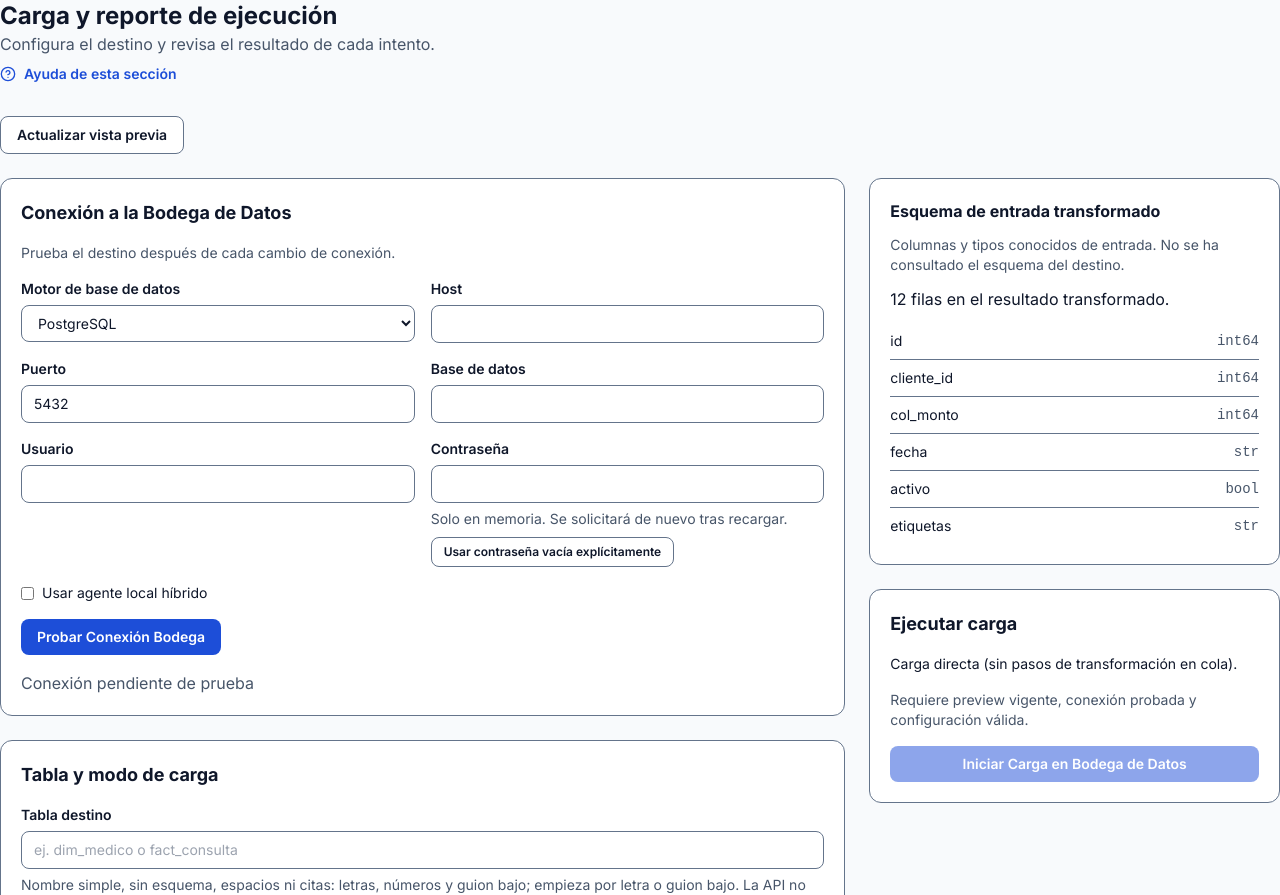
Load through the local agent › advertises local opt-in even on an incomplete form and blocks a disconnected agent
Click the checkbox labelled "Usar agente local híbrido" at (28, 593), box [21,586,34,600]
(page scrolled)
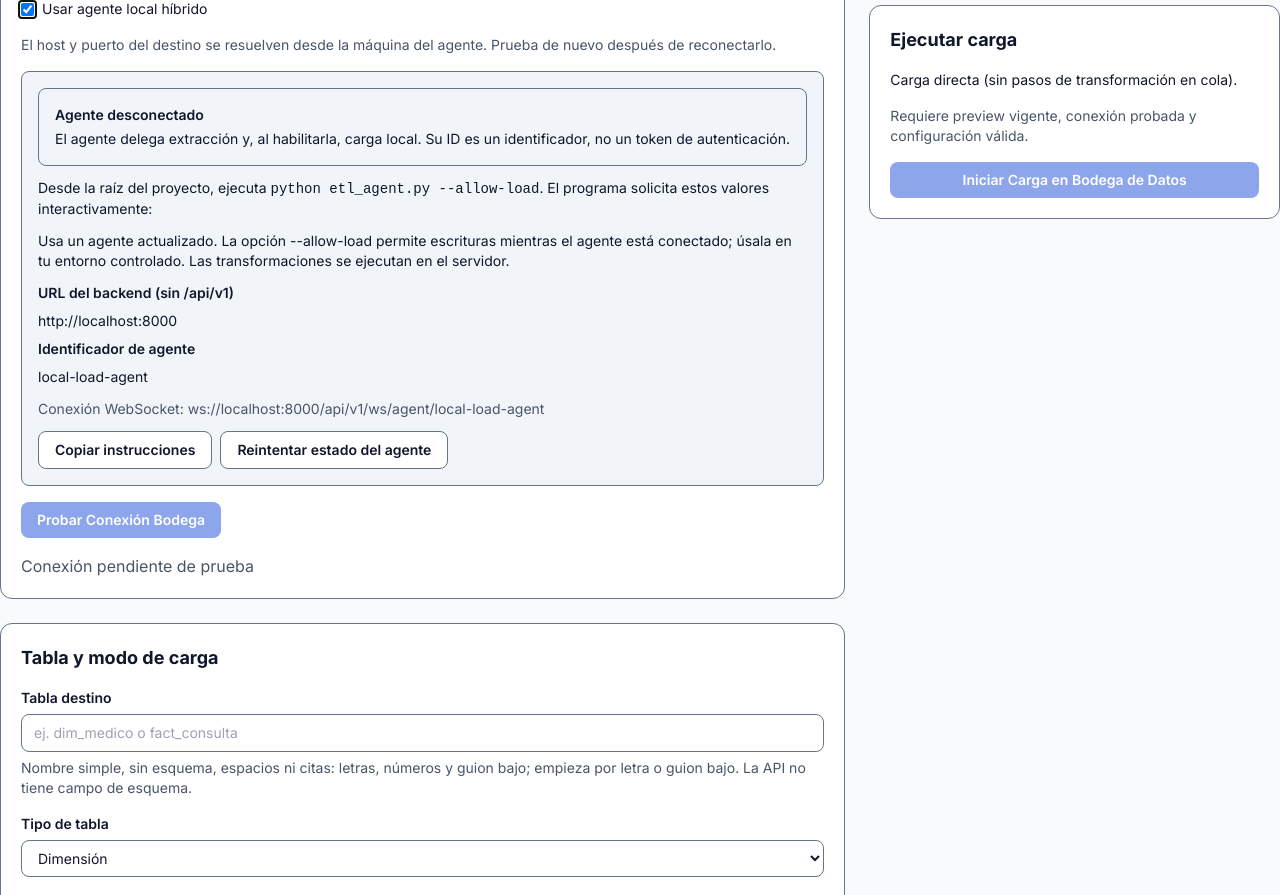
Now the text "Agente desconectado" is shown, box [55,106,204,123]
Now the text "python etl_agent.py --allow-load" is shown, box [270,181,539,197]
Now the text "local-load-agent" is shown, box [38,368,148,385]
Click the button "Reintentar estado del agente" at (334, 450), box [220,431,448,469]
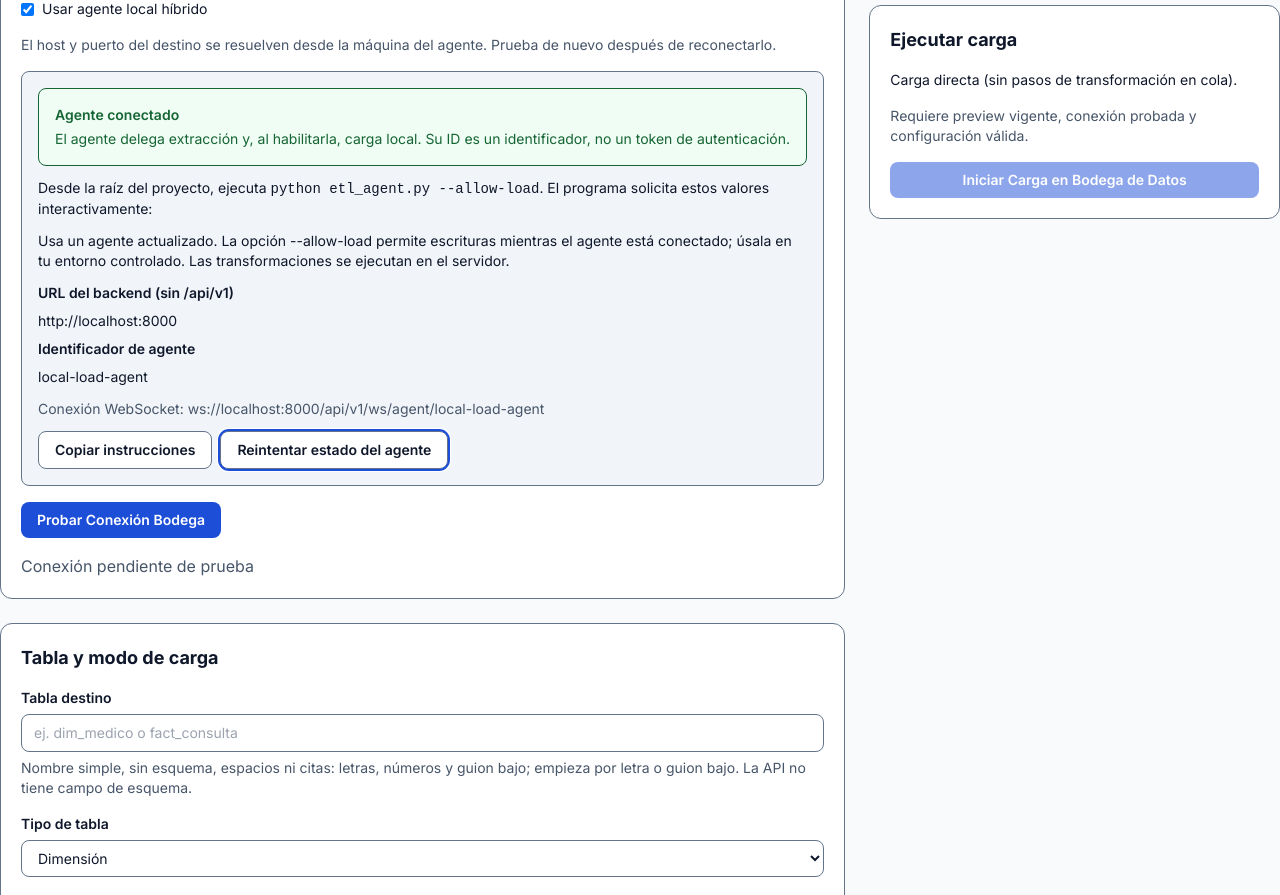
Now the text "Agente conectado" is shown, box [55,106,179,123]
Now the button "Probar Conexión Bodega" is enabled, box [21,502,221,538]
